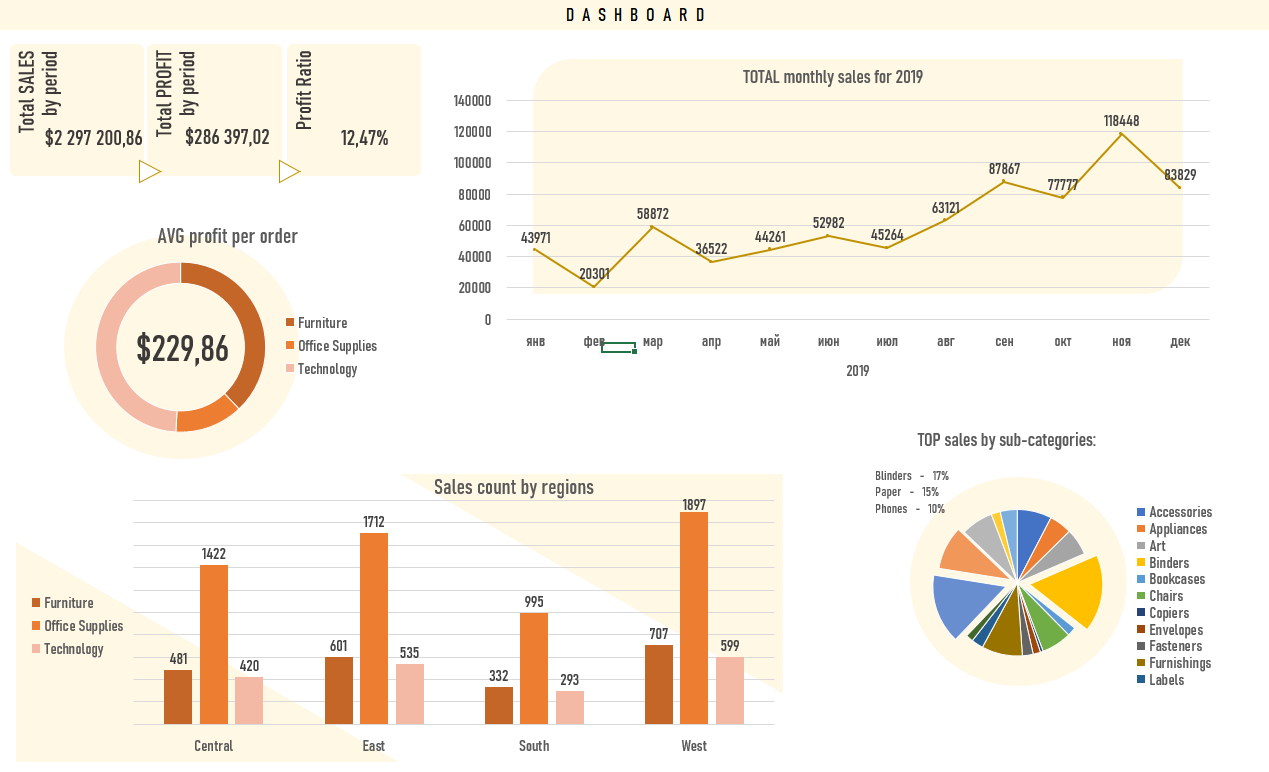

The page's visual inventory and layout, read from the dashboard file:
{"tool":"powerbi","page":{"name":"Sales overview","canvas":[1280,720],"ordinal":0},"visuals":[{"type":"card","fields":{"Values":["Sum(public sales_fact.profit)"]},"box":[543.3,57.2,204.6,73.1],"z":0,"group":"g2"},{"type":"card","fields":{"Values":["public sales_fact.avg_profit"]},"box":[1048.8,57.2,204.6,73.1],"z":0,"group":"g3"},{"type":"card","fields":{"Values":["Sum(public sales_fact.sales)"]},"box":[292.4,57.3,205.9,73.1],"z":0,"group":"g1"},{"type":"card","fields":{"Values":["public sales_fact.profit_ratio2"]},"box":[802.7,59.7,204.6,70.7],"z":0,"group":"g4"},{"type":"lineChart","fields":{"Y":["Sum(public sales_fact.sales)"],"Category":["public dim_date.month_","public dim_date.month_name"]},"box":[269.2,130.3,1011,210.7],"z":0,"group":"g5"},{"type":"clusteredBarChart","fields":{"Category":["public dim_products.subcategory"],"Y":["Sum(public sales_fact.sales)"]},"box":[268,341.1,506.7,378.8],"z":0,"group":"g6"},{"type":"slicer","fields":{"Values":["public dim_date.year_"]},"box":[0,376.3,267.7,160.4],"z":0},{"type":"multiRowCard","fields":{"Values":["public dim_geo.state","Sum(public sales_fact.sales)"]},"box":[845.4,555.5,430,164.4],"z":0,"group":"g7"},{"type":"textbox","box":[1028.1,50,188.8,34.1],"z":1000,"group":"g3"},{"type":"textbox","box":[277,53.3,116.9,36.5],"z":1000,"group":"g1"},{"type":"textbox","box":[787,54.8,115.7,32.9],"z":1000,"group":"g4"},{"type":"textbox","box":[521.5,56,115.7,34.1],"z":1000,"group":"g2"},{"type":"textbox","box":[691.6,139.5,188.8,45.9],"z":1000,"group":"g5"},{"type":"slicer","fields":{"Values":["public dim_date.quarter_"]},"box":[0,215.9,267.7,160.4],"z":1000},{"type":"textbox","box":[449.4,343.4,280.4,39],"z":1000,"group":"g6"},{"type":"textbox","box":[904.6,522.5,265.6,37.8],"z":1000,"group":"g7"},{"type":"textbox","box":[905.1,341.1,265.6,39],"z":2000},{"type":"textbox","box":[0,0,1279,49.9],"z":3000},{"type":"group","id":"g1","title":"Группа 1","box":[277,53.3,221.2,77],"z":4000},{"type":"slicer","fields":{"Values":["public dim_products.category"]},"box":[0,44.6,267.7,171.3],"z":5000},{"type":"slicer","fields":{"Values":["public dim_geo.region"]},"box":[0,536.7,267.7,183.3],"z":6000},{"type":"group","id":"g2","title":"Группа 1","box":[521.5,56,226.4,74.3],"z":7000},{"type":"group","id":"g3","title":"Группа 1","box":[1028.1,50,225.4,80.3],"z":8000},{"type":"group","id":"g4","title":"Группа 1","box":[787,54.8,220.3,75.6],"z":9000},{"type":"group","id":"g5","title":"Группа 2","box":[269.2,130.3,1011,210.7],"z":10000},{"type":"group","id":"g6","title":"Группа 3","box":[268,341.1,506.7,378.8],"z":11000},{"type":"donutChart","fields":{"Category":["public dim_customers.segment"],"Y":["Sum(public sales_fact.sales)"]},"box":[802.7,380.1,477.5,157.1],"z":12000},{"type":"group","id":"g7","title":"Группа 4","box":[845.4,522.5,430,197.4],"z":13000}]}

Visuals, with their boxes on the page's 1280x720 design canvas (x1, y1, x2, y2). These are canvas units, not pixel positions in the 1269x772 screenshot, which may show the page scaled, cropped or inside an application window:
card - Sum(public sales_fact.profit): box=[543, 57, 748, 130]
card - public sales_fact.avg_profit: box=[1049, 57, 1253, 130]
card - Sum(public sales_fact.sales): box=[292, 57, 498, 130]
card - public sales_fact.profit_ratio2: box=[803, 60, 1007, 130]
lineChart - Sum(public sales_fact.sales) x public dim_date.month_: box=[269, 130, 1280, 341]
clusteredBarChart - public dim_products.subcategory x Sum(public sales_fact.sales): box=[268, 341, 775, 720]
slicer - public dim_date.year_: box=[0, 376, 268, 537]
multiRowCard - public dim_geo.state x Sum(public sales_fact.sales): box=[845, 556, 1275, 720]
textbox: box=[1028, 50, 1217, 84]
textbox: box=[277, 53, 394, 90]
textbox: box=[787, 55, 903, 88]
textbox: box=[522, 56, 637, 90]
textbox: box=[692, 140, 880, 185]
slicer - public dim_date.quarter_: box=[0, 216, 268, 376]
textbox: box=[449, 343, 730, 382]
textbox: box=[905, 522, 1170, 560]
textbox: box=[905, 341, 1171, 380]
textbox: box=[0, 0, 1279, 50]
"Группа 1" group: box=[277, 53, 498, 130]
slicer - public dim_products.category: box=[0, 45, 268, 216]
slicer - public dim_geo.region: box=[0, 537, 268, 720]
"Группа 1" group: box=[522, 56, 748, 130]
"Группа 1" group: box=[1028, 50, 1254, 130]
"Группа 1" group: box=[787, 55, 1007, 130]
"Группа 2" group: box=[269, 130, 1280, 341]
"Группа 3" group: box=[268, 341, 775, 720]
donutChart - public dim_customers.segment x Sum(public sales_fact.sales): box=[803, 380, 1280, 537]
"Группа 4" group: box=[845, 522, 1275, 720]
